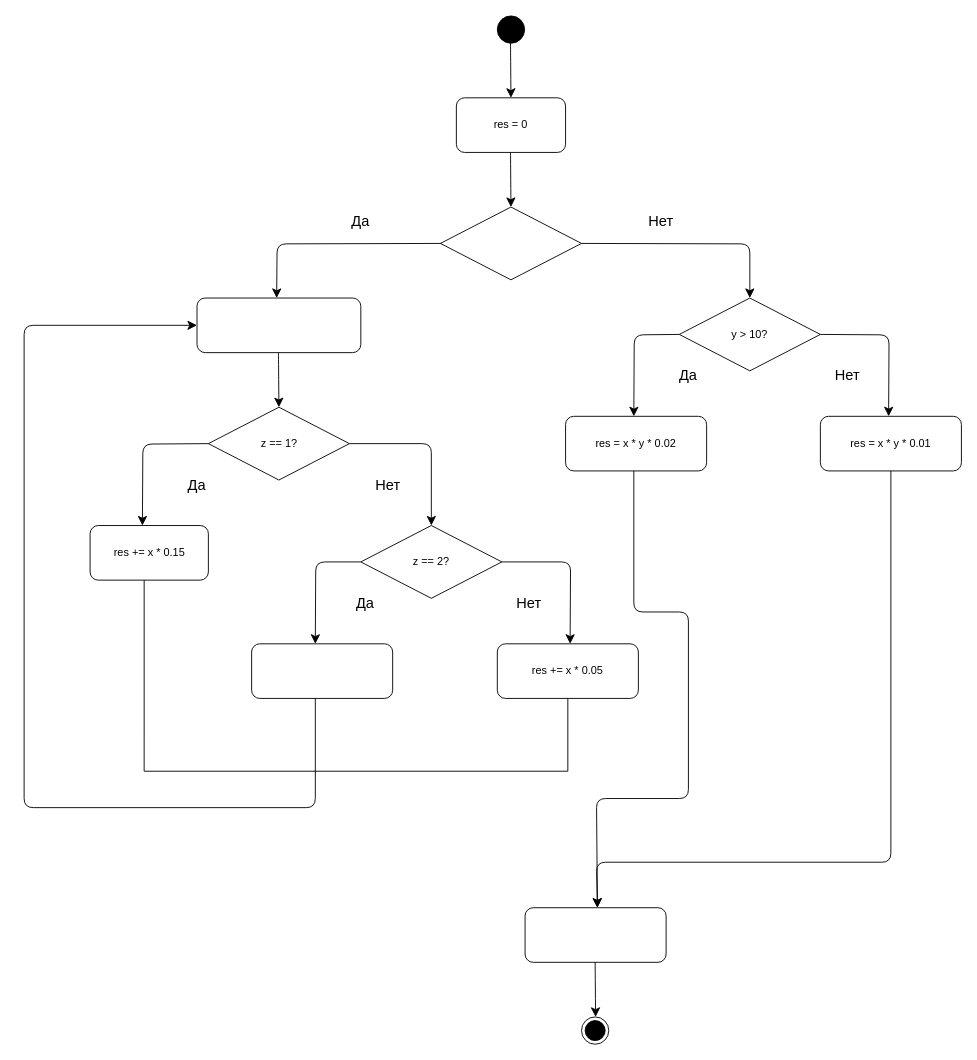
The diagram is 977 pixels wide and 1060 high, and some of its shapes have lost their labels. Here are the shapes that lost their labels. From the top down, the centre of each, then its label:
At point (510, 243): "x > 1000?".
At point (278, 325): "Повторить y раз (цикл i)".
At point (322, 670): "res += x* 0.10".
At point (595, 934): "return res".
